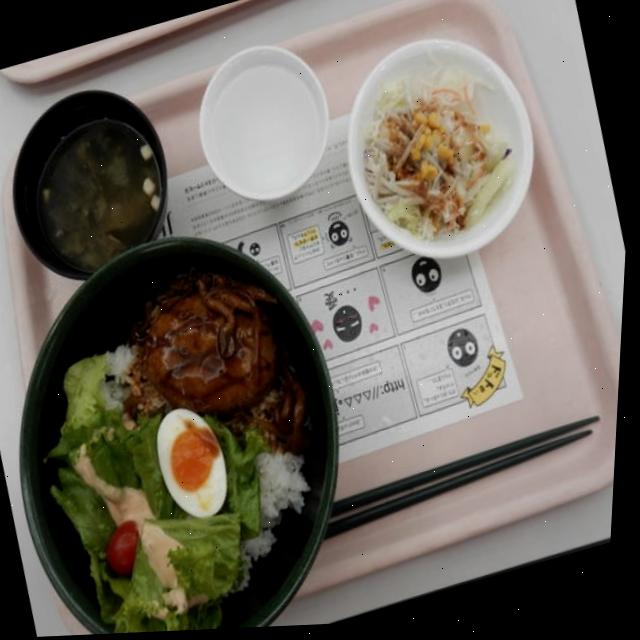汤锅炖物: (0, 68, 194, 289)
蔬菜料理: (312, 19, 566, 285)
